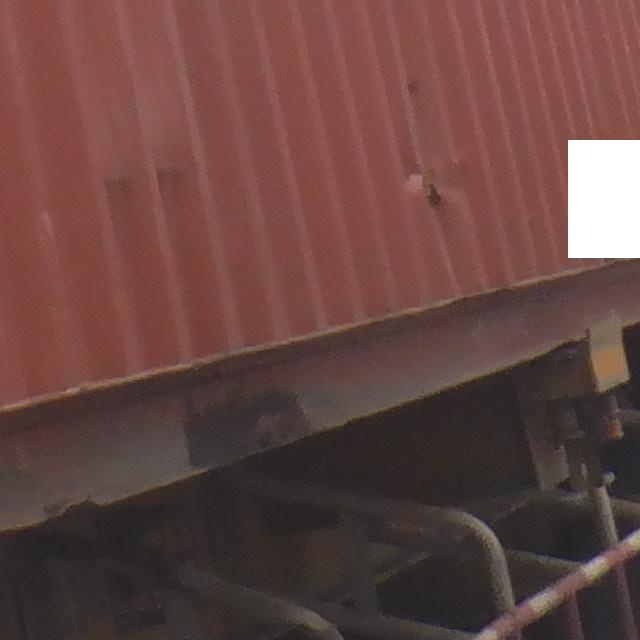Dent: (393, 161, 489, 224)
